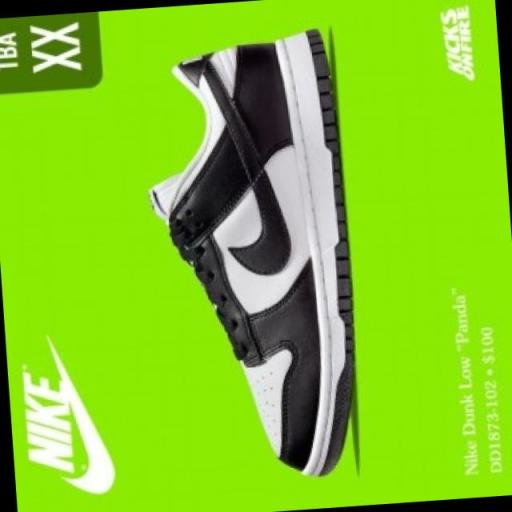Nike: (58, 359, 116, 496), (21, 366, 75, 474)
